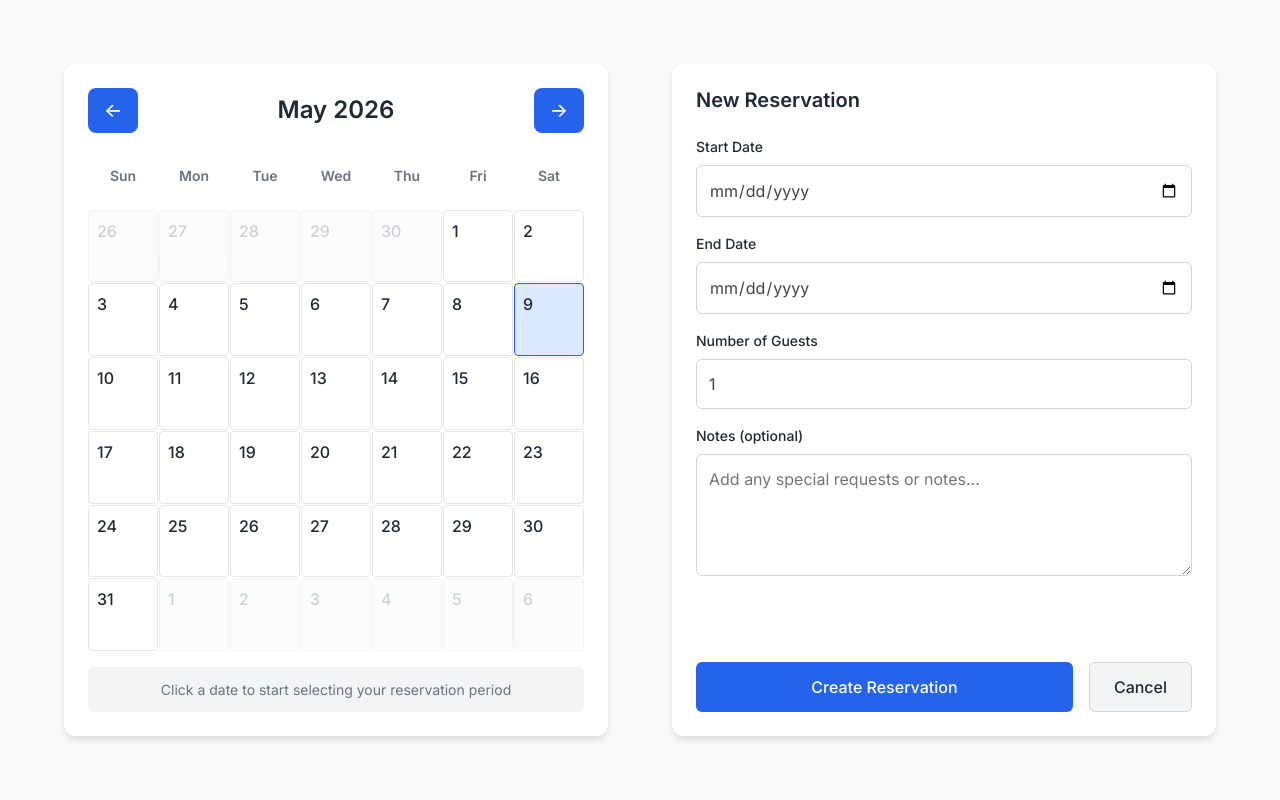
Test case: CalendarFormIntegration › should validate form before submission
Type "2024-06-20" into the date field labelled "Start Date".
click(944, 191); type("2024-06-20")  # box [696,165,1192,217]
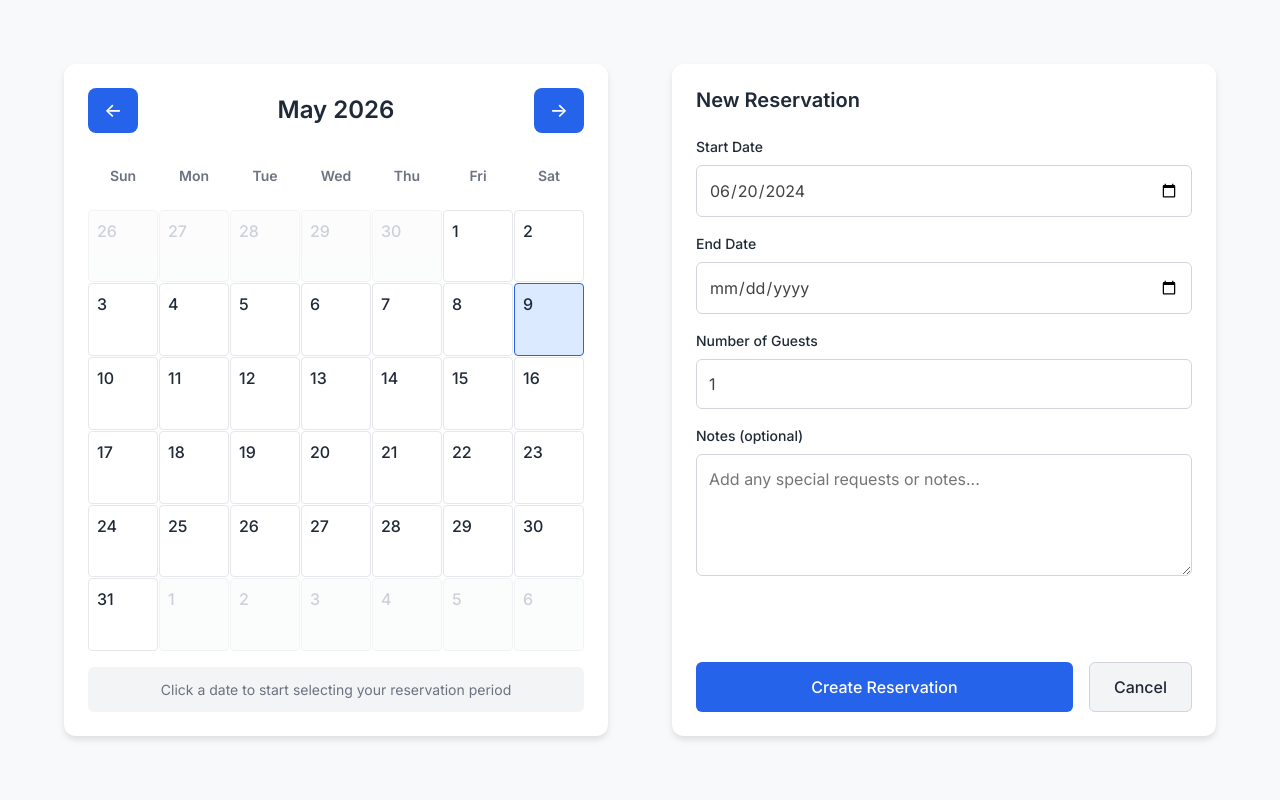
Type "2024-06-15" into the date field labelled "End Date".
click(944, 288); type("2024-06-15")  # box [696,262,1192,314]
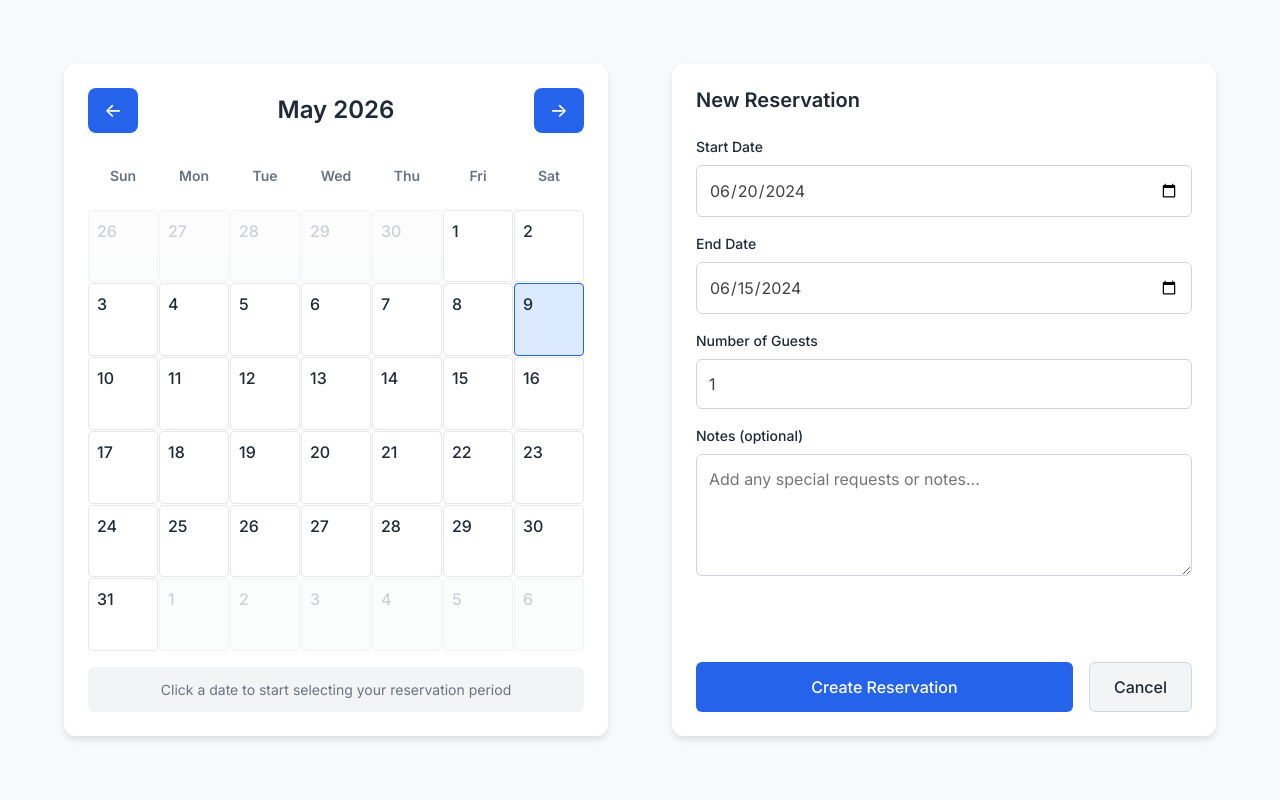
Note: Try to submit with invalid date range
Click the button "Create Reservation".
click(884, 687)  # box [696,662,1073,712]
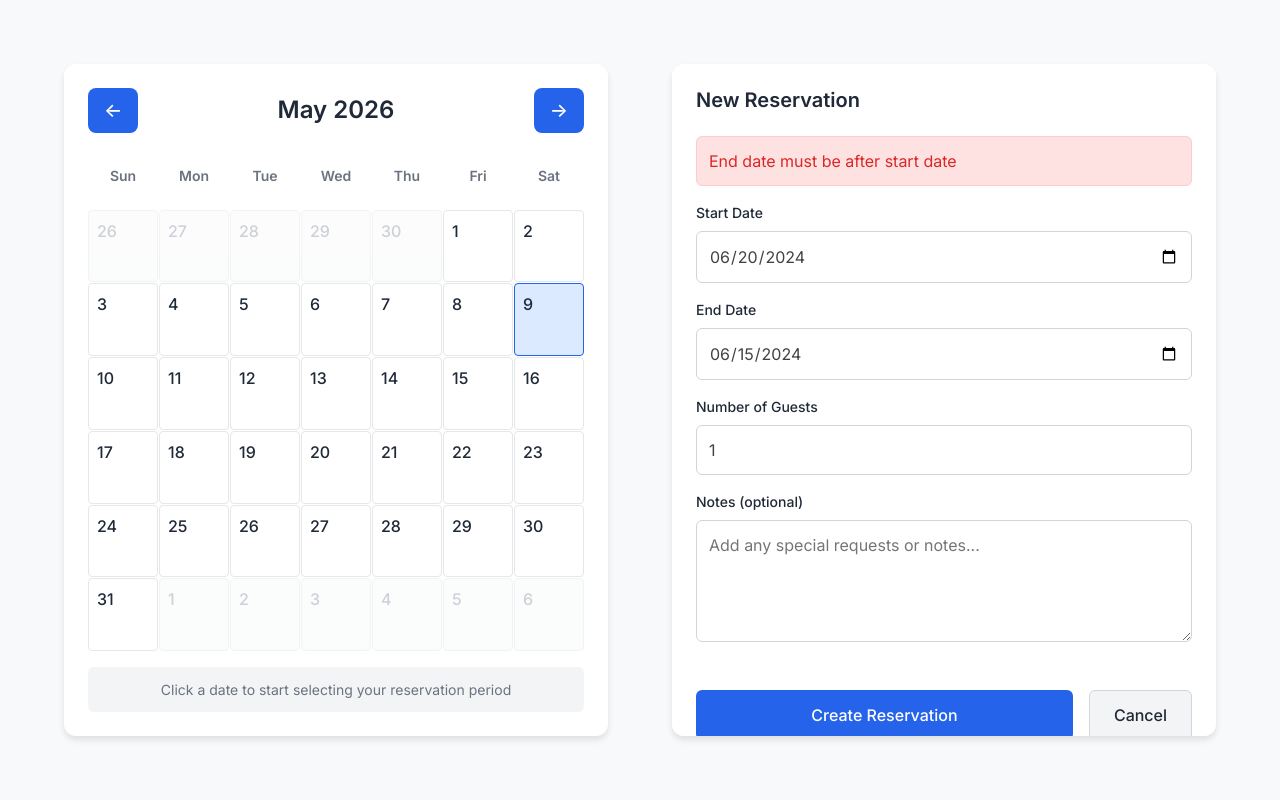
Expected: the text "End date must be after start date" is shown, [696,136,1192,186]
